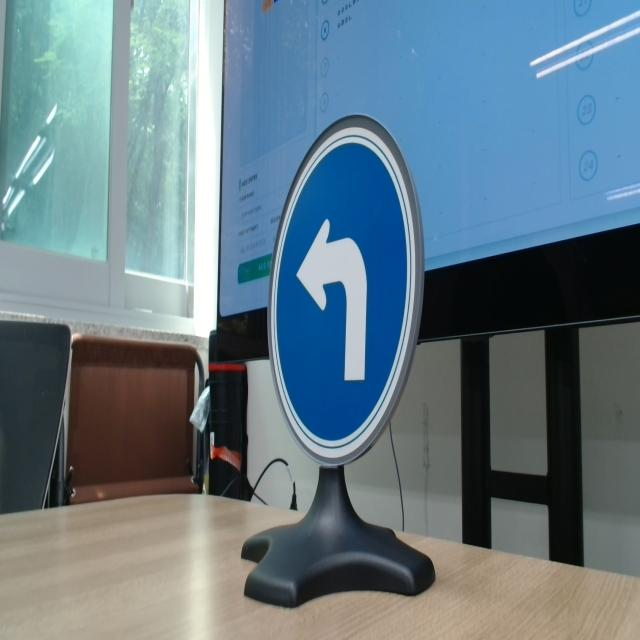left_direction: (264, 108, 426, 471)
